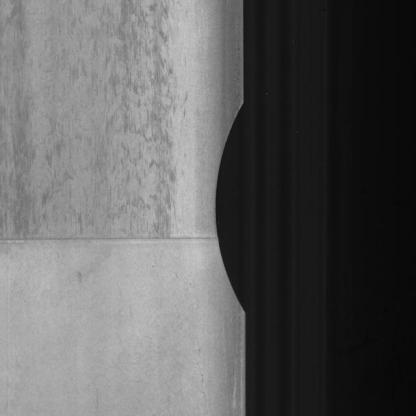crescent_gap: (209, 94, 262, 323)
welding_line: (0, 220, 224, 260)
